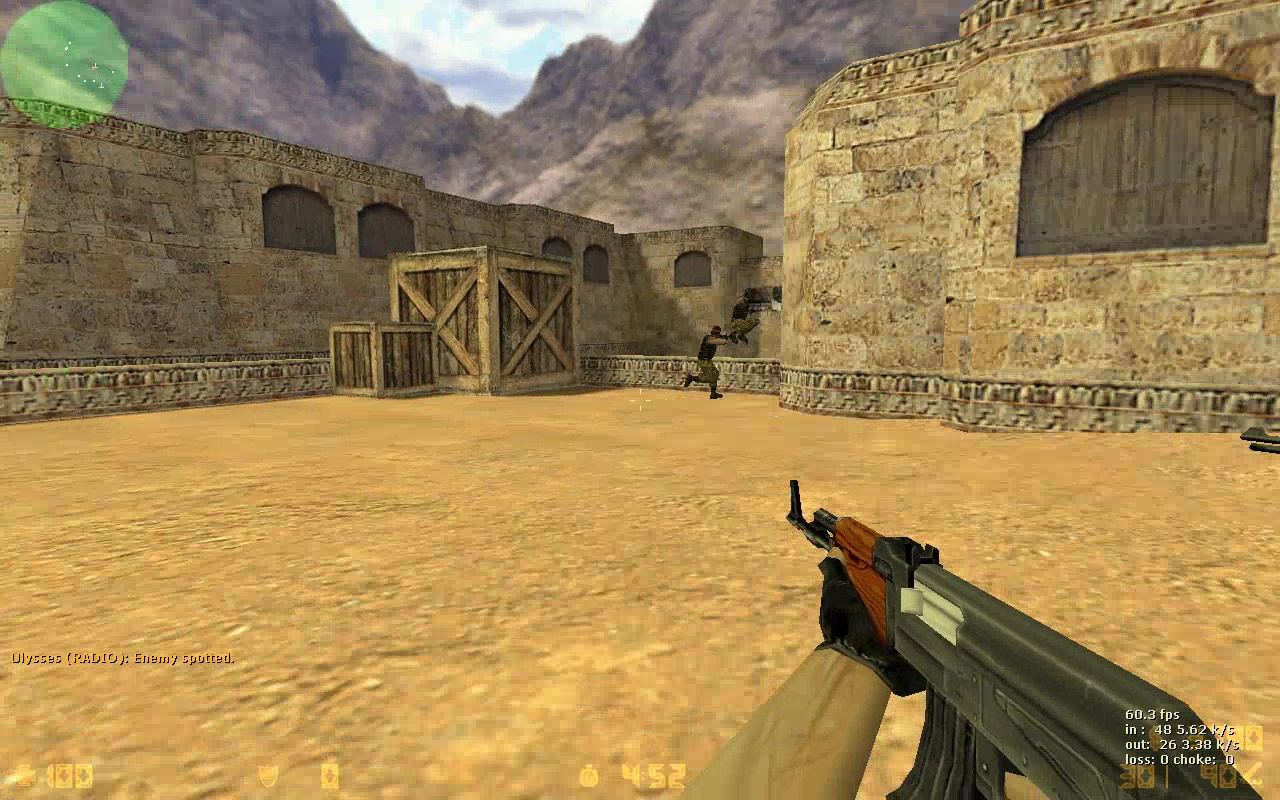terr1: (685, 324, 739, 399), (728, 294, 768, 342)
